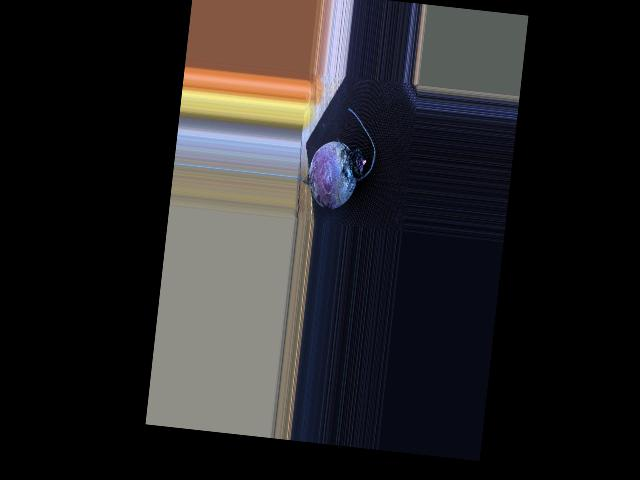beet: (294, 103, 380, 213)
